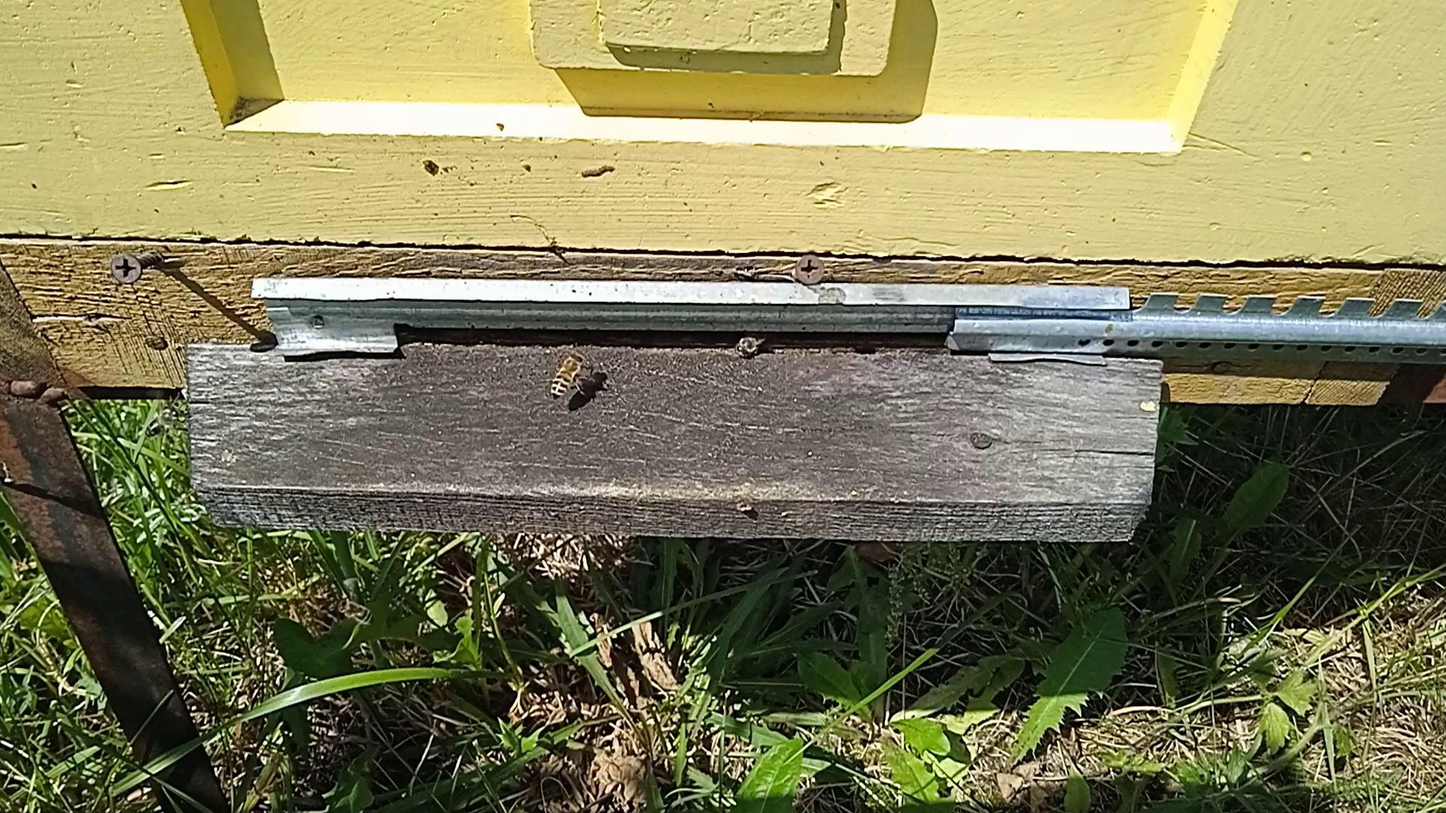worker-bee: (548, 351, 590, 399), (145, 407, 178, 436), (734, 331, 768, 358), (339, 599, 373, 625)
